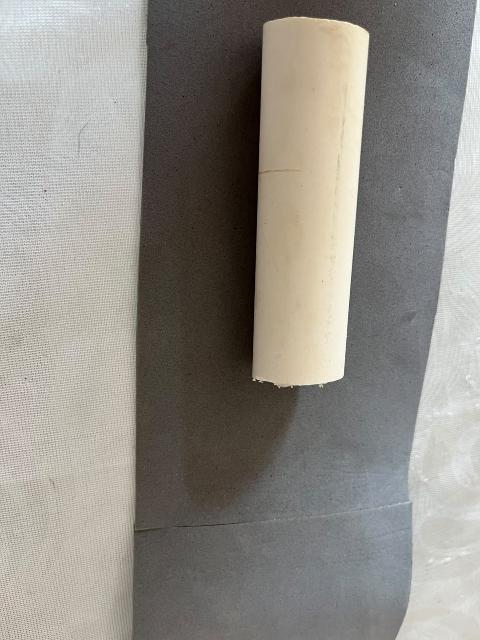PVC: (209, 9, 414, 399)
